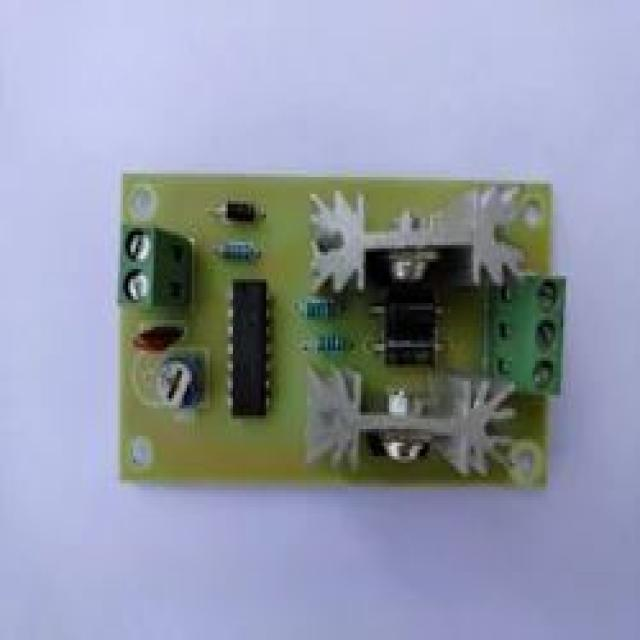pcb: (115, 167, 566, 490), (486, 259, 566, 395), (223, 276, 271, 415), (115, 222, 192, 306), (302, 361, 361, 470), (154, 344, 210, 412)
